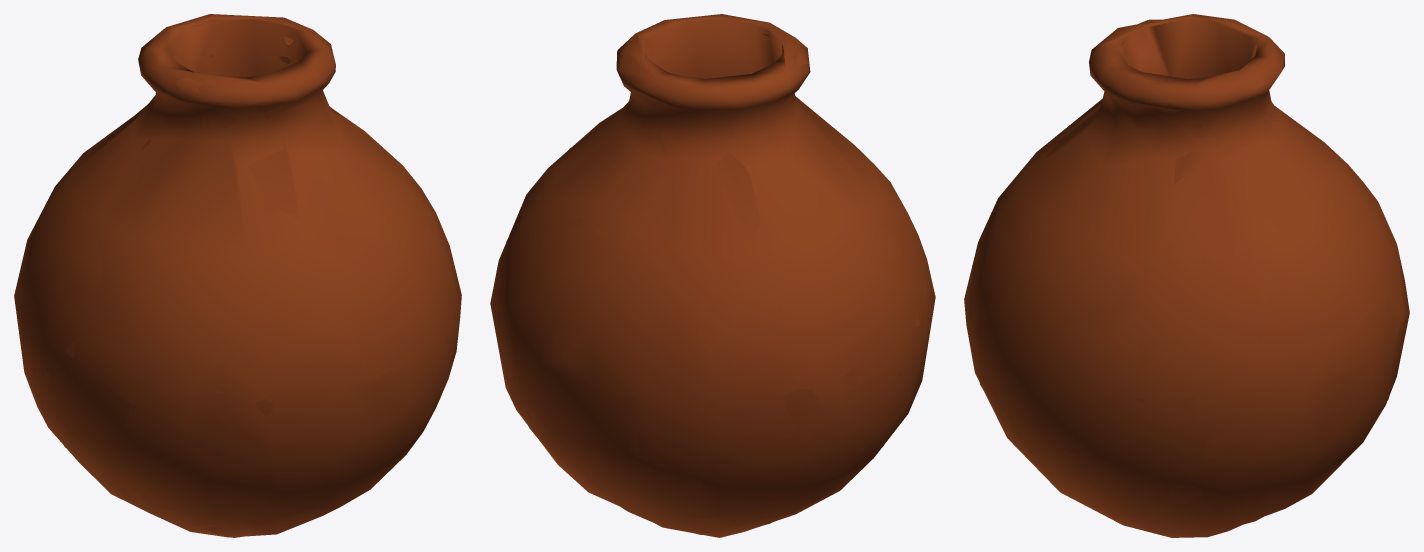
File: gen3d-clay-pot-lod1.glb
3 renders of one model, left to right at view 1: azimuth 30°, elevation 25°; view 2: azimuth 150°, elevation 25°; view 3: azimuth 270°, elevation 25°, orthographic.
Visible parts, largest first — view 1: part_0; view 2: part_0; view 3: part_0.
Boxes of the visible parts, x1,y1,x2,y2 form: part_0: (14, 14, 461, 537); part_0: (490, 14, 935, 537); part_0: (964, 14, 1409, 537).
Size of the model in its own units: 0.8485 by 0.9988 by 0.8503.
